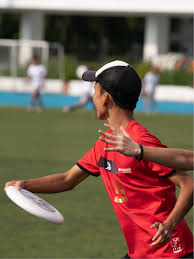disc: (3, 184, 69, 227)
